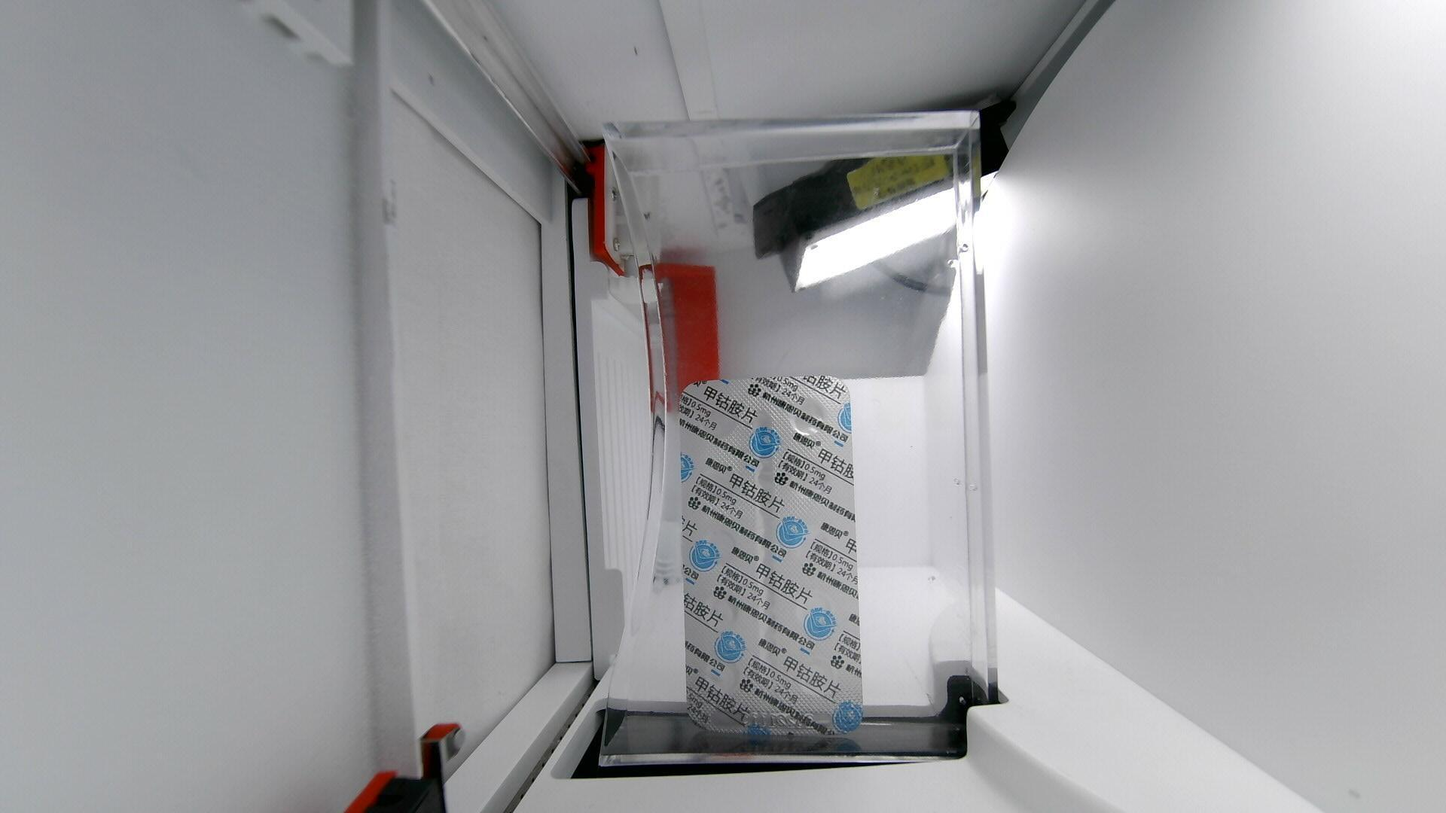Pill Back: (690, 396, 754, 462), (786, 597, 847, 642), (792, 662, 845, 711), (692, 462, 748, 505), (792, 529, 843, 576), (691, 647, 740, 693), (688, 592, 740, 635), (690, 531, 741, 573), (786, 392, 829, 438), (793, 462, 839, 503)
